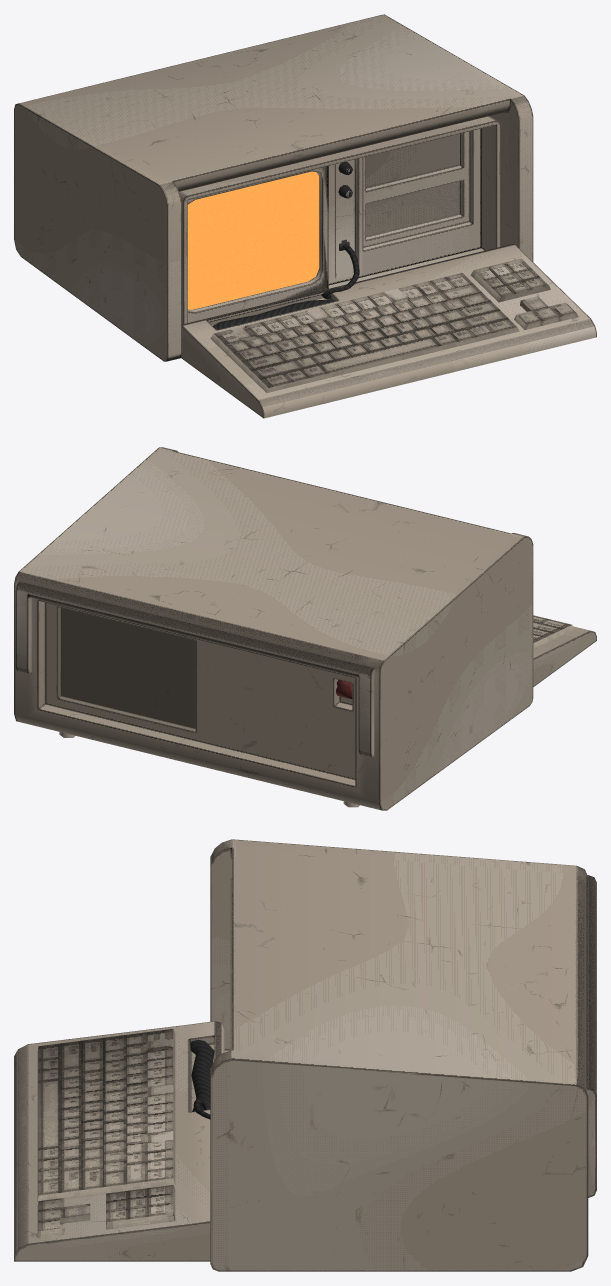
Rendered from ibm_5155.glb.
3 views of the same model, one above another, from view 1: azimuth 30°, elevation 25°; view 2: azimuth 150°, elevation 25°; view 3: azimuth 270°, elevation 25° (orthographic). The views are drawn at different scales.
Parts seen in each view (by area): view 1: case, computer, keyboard, keyboardCase, bigCable, tinyCable; view 2: case, handle, keyboardCase, keyboard; view 3: case, keyboard, keyboardCase, handle, bigCable.
Part boxes in pixels (x1,y1,x2,y2): case: (14, 14, 533, 361); computer: (179, 116, 500, 324); keyboard: (210, 258, 578, 392); keyboardCase: (181, 244, 596, 418); bigCable: (213, 299, 335, 329); tinyCable: (321, 239, 359, 299); case: (14, 447, 533, 810); handle: (15, 581, 375, 757); keyboardCase: (533, 626, 596, 686); keyboard: (533, 615, 574, 649); case: (210, 839, 588, 1271); keyboard: (37, 1029, 175, 1237); keyboardCase: (14, 1021, 224, 1261); handle: (586, 875, 596, 1197); bigCable: (190, 1039, 214, 1111).
Size of the model in its own units: 1.8 by 0.853 by 2.02.
Materials: 7 (7 with a texture image).
